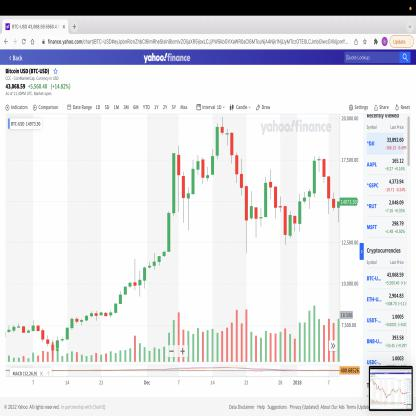Bearish: 3 Black Crows: (234, 148, 249, 256), (229, 130, 244, 197)
Bearish: Evening Star Doji: (263, 168, 278, 220), (312, 154, 326, 200)
